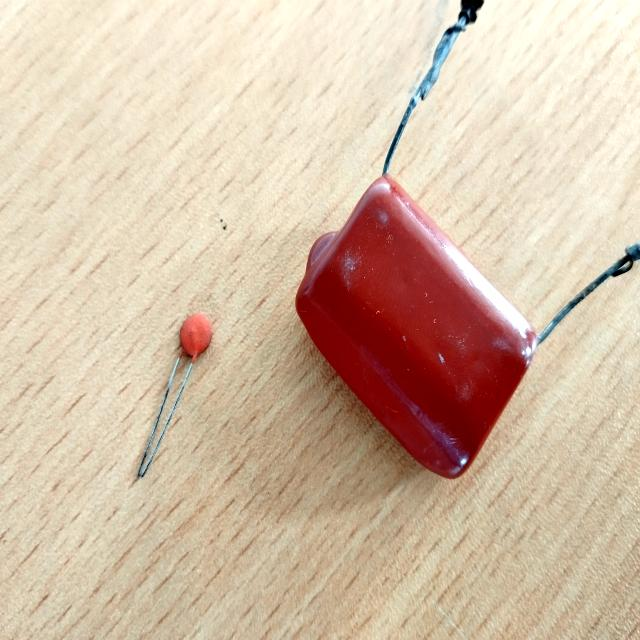capacitor: (297, 190, 535, 472), (179, 312, 212, 366)
